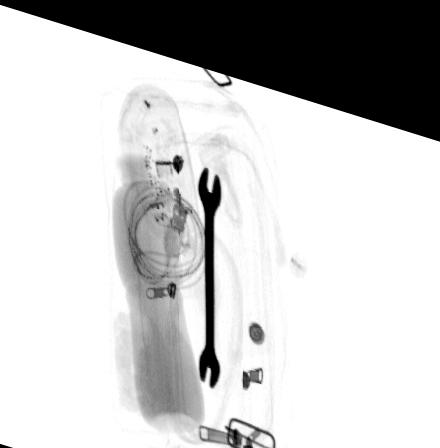Wrench: (195, 151, 223, 377)
